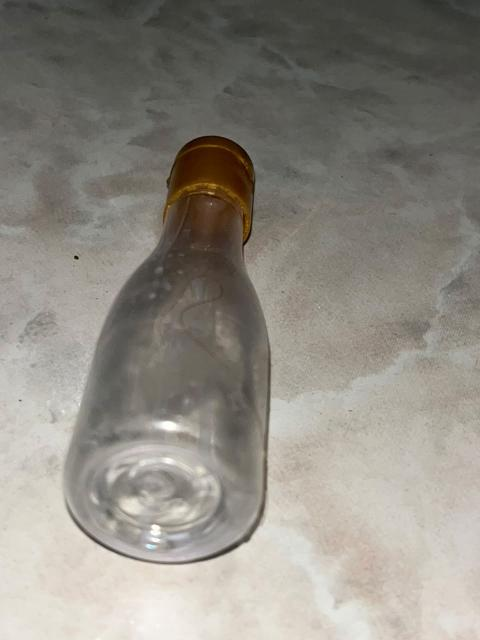PET: (64, 100, 315, 607)
